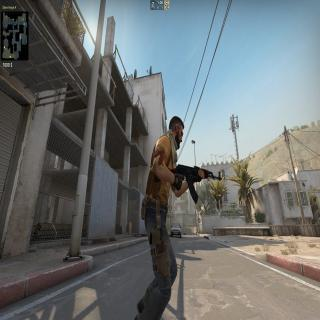T-Head: (168, 114, 185, 152)
